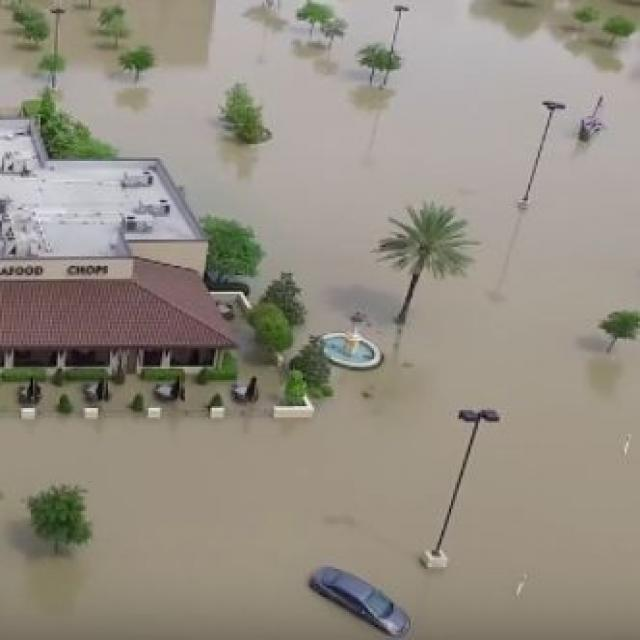flood: (0, 0, 640, 640)
house: (2, 252, 237, 351), (5, 160, 212, 270), (0, 118, 44, 176)
